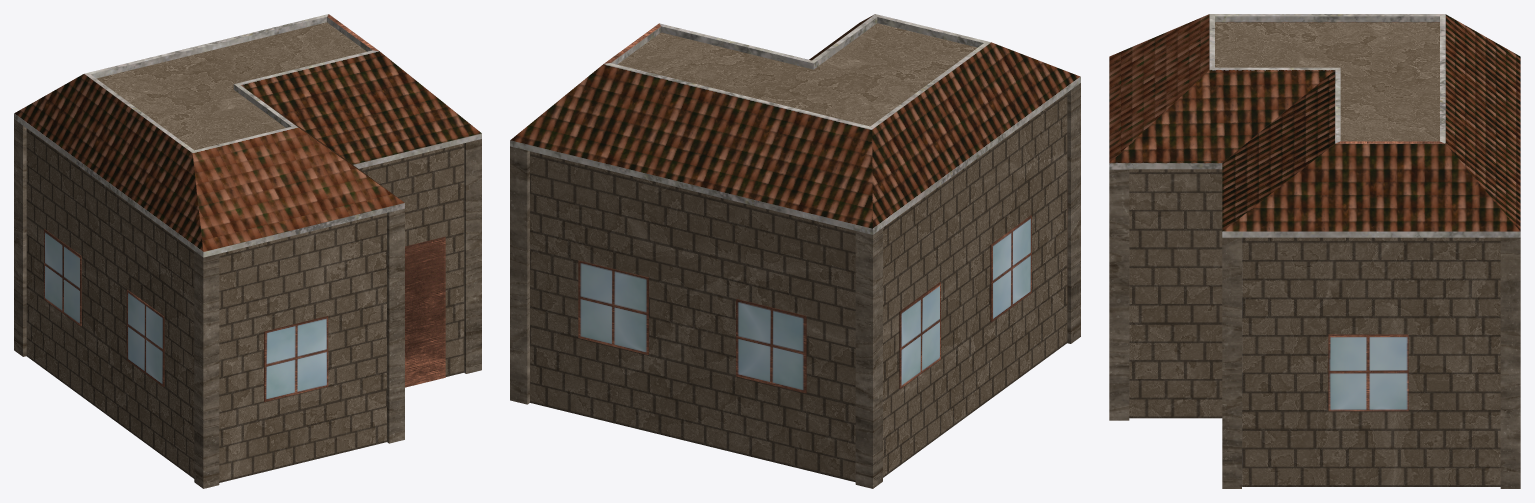
Rendered from hut_a.glb.
The picture shows the model from 3 angles, left to right: view 1: azimuth 30°, elevation 25°; view 2: azimuth 150°, elevation 25°; view 3: azimuth 270°, elevation 25°; orthographic projection. The views are drawn at different scales.
Visible parts, largest first — view 1: HutA; view 2: HutA; view 3: HutA.
Boxes of the visible parts, x1,y1,x2,y2 form: HutA: (14, 14, 481, 488); HutA: (510, 14, 1080, 488); HutA: (1109, 14, 1520, 488).
Size of the model in its own units: 4.69 by 3.98 by 4.66.
Materials: 1 (1 with a texture image).
